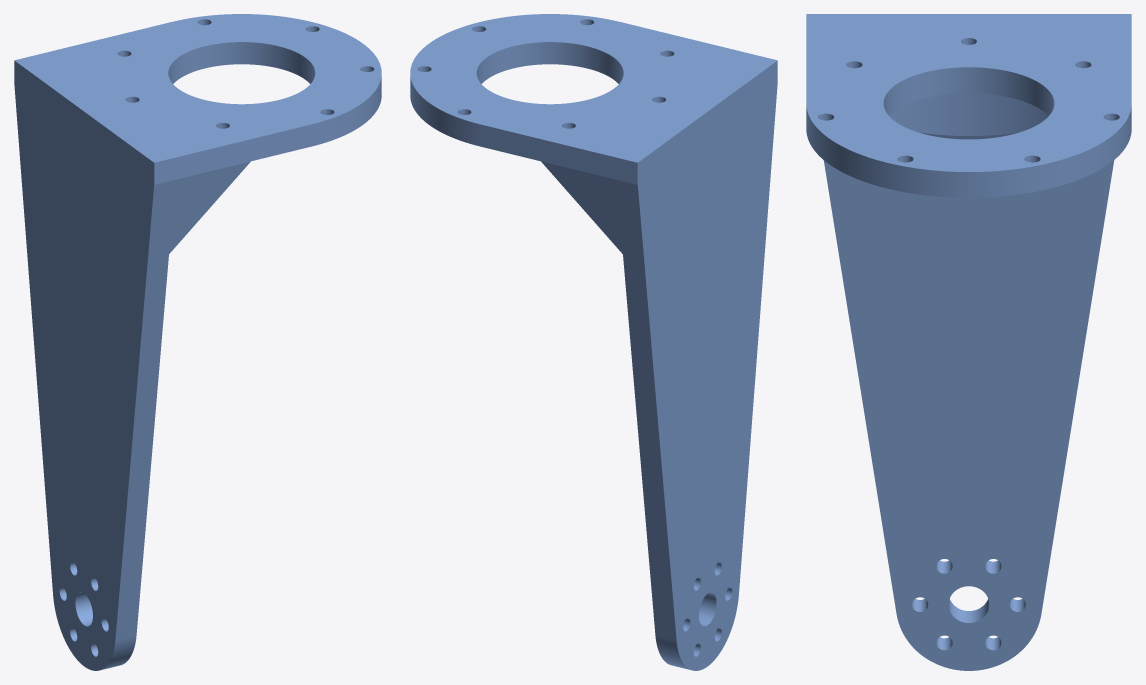
3 views of the same model, side by side, from view 1: azimuth 30°, elevation 25°; view 2: azimuth 150°, elevation 25°; view 3: azimuth 270°, elevation 25° (orthographic). The views are drawn at different scales.
Visible parts, largest first — view 1: mesh1096, mesh1103, mesh1094, mesh1100, mesh1110, mesh1101, mesh1087; view 2: mesh1096, mesh1103, mesh1095, mesh1099, mesh1110, mesh1101, mesh1087; view 3: mesh1086, mesh1103, mesh1101, mesh1098, mesh1110, mesh1092.
Part boxes in pixels (x1,y1,x2,y2): mesh1096: (14, 60, 154, 670); mesh1103: (14, 14, 381, 162); mesh1094: (115, 161, 250, 640); mesh1100: (154, 124, 311, 184); mesh1110: (168, 42, 315, 83); mesh1101: (311, 76, 381, 146); mesh1087: (101, 635, 136, 669); mesh1096: (637, 60, 777, 670); mesh1103: (410, 14, 777, 162); mesh1095: (541, 161, 676, 640); mesh1099: (480, 124, 637, 184); mesh1110: (476, 42, 623, 83); mesh1101: (410, 76, 480, 146); mesh1087: (655, 635, 690, 669); mesh1086: (823, 160, 1114, 670); mesh1103: (806, 14, 1131, 171); mesh1101: (806, 106, 1131, 197); mesh1098: (889, 93, 1048, 135); mesh1110: (883, 67, 1054, 115); mesh1092: (948, 599, 989, 622).
Size of the model in its own units: 0.092 by 0.175 by 0.08.
